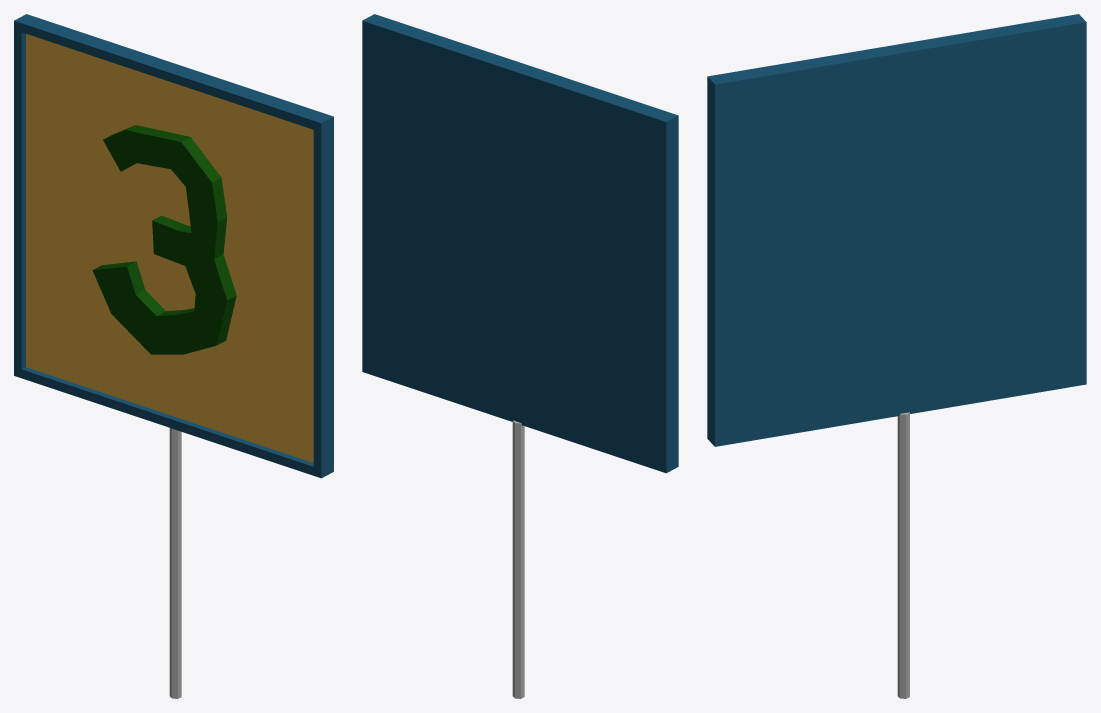
Rendered from number-billboard.glb.
3 renders of one model, left to right at view 1: azimuth 30°, elevation 25°; view 2: azimuth 210°, elevation 25°; view 3: azimuth 270°, elevation 25°, orthographic. The views are drawn at different scales.
Parts seen in each view (by area): view 1: ghost-billboard; view 2: ghost-billboard; view 3: ghost-billboard.
Boxes of the visible parts, <box> form: ghost-billboard: <box>14,14,333,698</box>; ghost-billboard: <box>362,14,678,698</box>; ghost-billboard: <box>707,14,1086,698</box>.
Size of the model in its own units: 6.77 by 28.83 by 15.37.
1 material, 1 textured.
